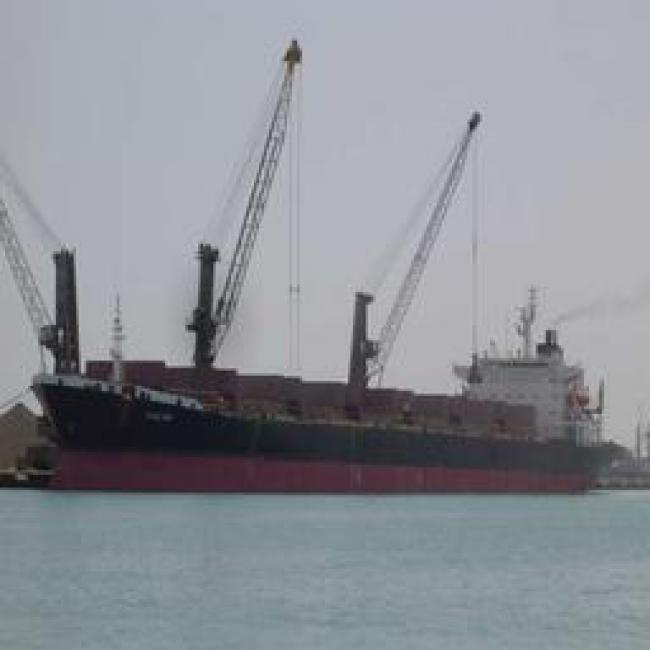Ship: (21, 352, 617, 517)
